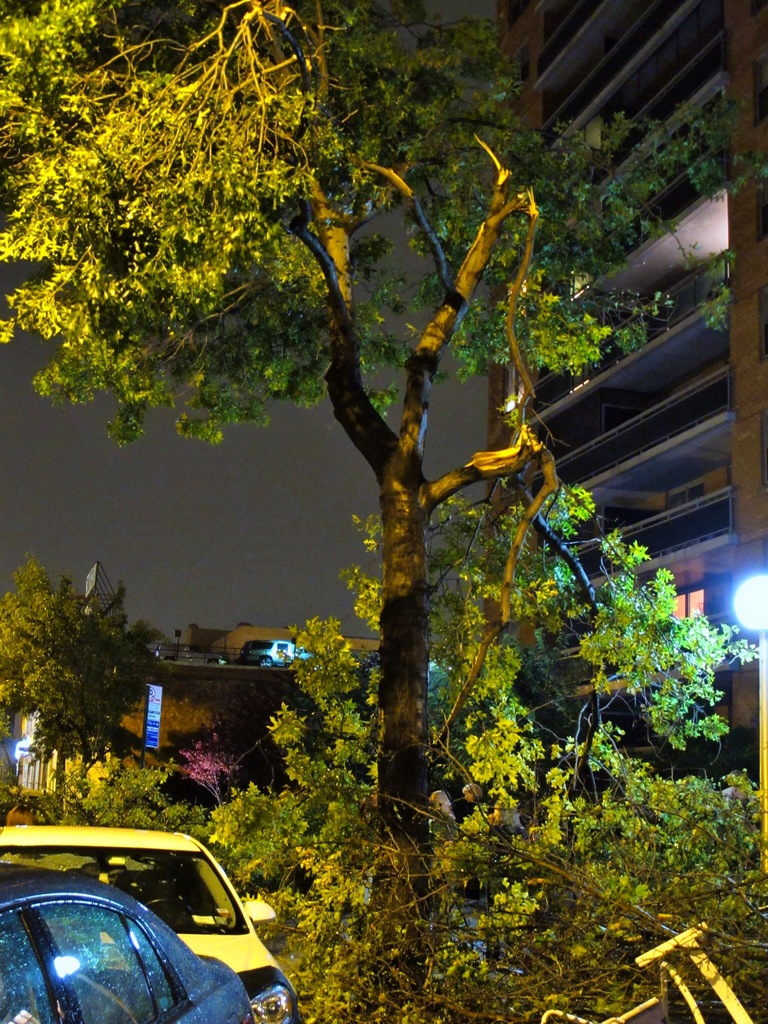Car: (0, 826, 300, 1023), (0, 869, 254, 1023)
